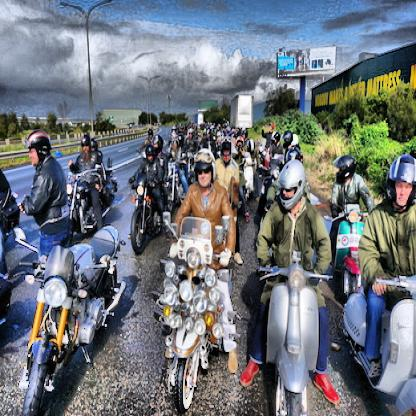wear: (390, 154, 416, 207), (192, 145, 219, 194), (280, 160, 306, 210), (26, 128, 52, 170), (337, 153, 352, 179), (81, 132, 93, 157), (147, 138, 160, 161)
